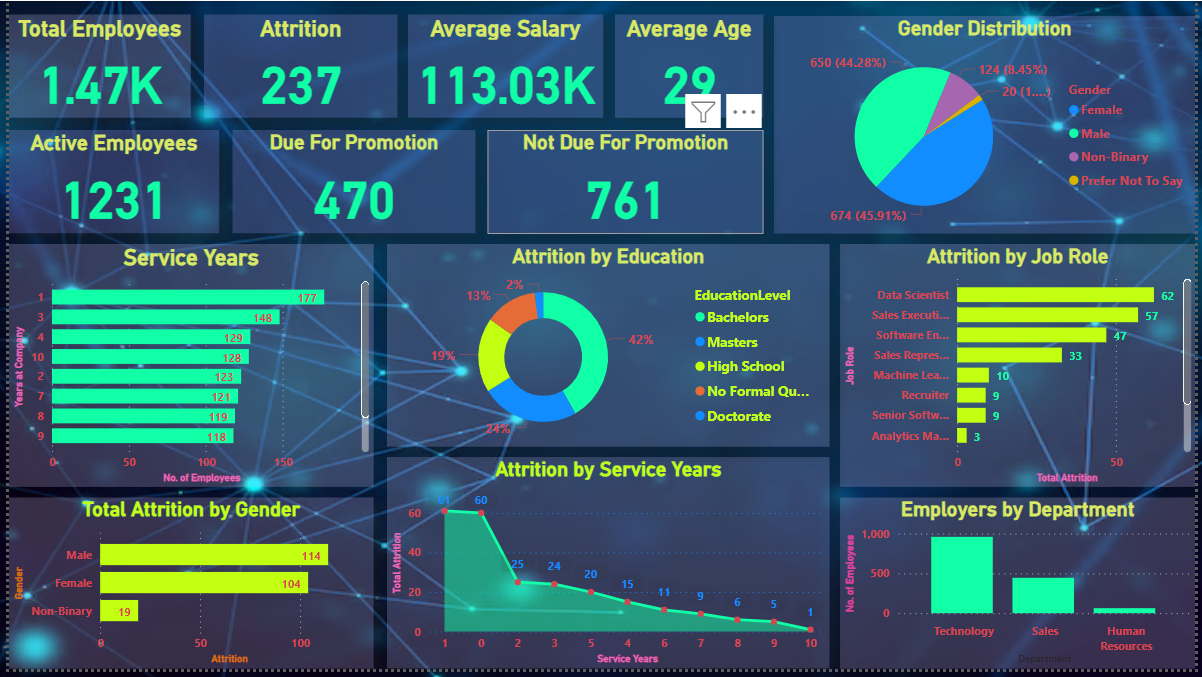

The dashboard page shown, as its layout file describes it:
{"tool":"powerbi","page":{"name":"Page 1","canvas":[1280,720],"ordinal":0},"visuals":[{"type":"card","title":"Total Employees","fields":{"Values":["Count(Employee.EmployeeID)"]},"box":[0,14.6,195.8,111.6],"z":0},{"type":"lineClusteredColumnComboChart","title":"Employers by Department","fields":{"Category":["Employee.Department"],"Y":["CountNonNull(Employee.EmployeeID)"]},"box":[896.4,535.6,383.5,184.4],"z":1000},{"type":"pieChart","title":" Gender Distribution","fields":{"Category":["Employee.Gender"],"Y":["CountNonNull(Employee.Gender)"]},"box":[825.2,16.2,454.7,234.6],"z":2000},{"type":"card","title":"Attrition","fields":{"Values":["Employee.Attrition count"]},"box":[210.3,14.6,208.7,111.6],"z":3000},{"type":"card","title":"Average Salary","fields":{"Values":["Employee.Avg Salery"]},"box":[430.4,14.6,210.3,111.6],"z":4000},{"type":"card","title":"Average Age","fields":{"Values":["Employee.Avg age"]},"box":[653.7,14.6,160.2,111.6],"z":5000},{"type":"card","title":"Active Employees","fields":{"Values":["Employee.Active Employees"]},"box":[0,139.1,226.5,111.6],"z":6000},{"type":"card","title":"Due For Promotion","fields":{"Values":["Employee.Due Promotion"]},"box":[241.1,139.1,262.1,111.6],"z":7000},{"type":"card","title":"Not Due For Promotion","fields":{"Values":["Employee.Not Due Promotion"]},"box":[516.1,139.1,297.7,111.6],"z":8000},{"type":"clusteredBarChart","title":"Service Years","fields":{"Category":["Employee.YearsAtCompany"],"Y":["CountNonNull(Employee.EmployeeID)"]},"box":[0,262.1,393.2,262.1],"z":8001},{"type":"clusteredBarChart","title":"Attrition by Job Role","fields":{"Y":["Employee.Attrition count"],"Category":["Employee.JobRole"]},"box":[896.4,262.1,383.5,262.1],"z":8002},{"type":"clusteredBarChart","title":"Total Attrition by Gender","fields":{"Y":["Employee.Attrition count"],"Category":["Employee.Gender"]},"box":[0,535.6,393.2,184.4],"z":8003},{"type":"areaChart","title":"Attrition by Service Years","fields":{"Category":["Employee.YearsAtCompany"],"Y":["Employee.Attrition count"]},"box":[407.7,491.9,477.3,228.1],"z":8004},{"type":"donutChart","title":"Attrition by Education","fields":{"Y":["Employee.Attrition count"],"Category":["Education level.EducationLevel"]},"box":[407.7,262.1,477.3,218.4],"z":8005}]}

Visuals, with their boxes in screenshot pixels (x1, y1, x2, y2), scaled from the page's 1280x720 canvas onto the 1202x677 screenshot:
"Total Employees" card: [0, 14, 184, 119]
"Employers by Department" lineClusteredColumnComboChart: [842, 504, 1201, 676]
" Gender Distribution" pieChart: [775, 15, 1201, 236]
"Attrition" card: [197, 14, 393, 119]
"Average Salary" card: [404, 14, 602, 119]
"Average Age" card: [614, 14, 764, 119]
"Active Employees" card: [0, 131, 213, 236]
"Due For Promotion" card: [226, 131, 473, 236]
"Not Due For Promotion" card: [485, 131, 764, 236]
"Service Years" clusteredBarChart: [0, 246, 369, 493]
"Attrition by Job Role" clusteredBarChart: [842, 246, 1201, 493]
"Total Attrition by Gender" clusteredBarChart: [0, 504, 369, 676]
"Attrition by Service Years" areaChart: [383, 463, 831, 676]
"Attrition by Education" donutChart: [383, 246, 831, 452]
